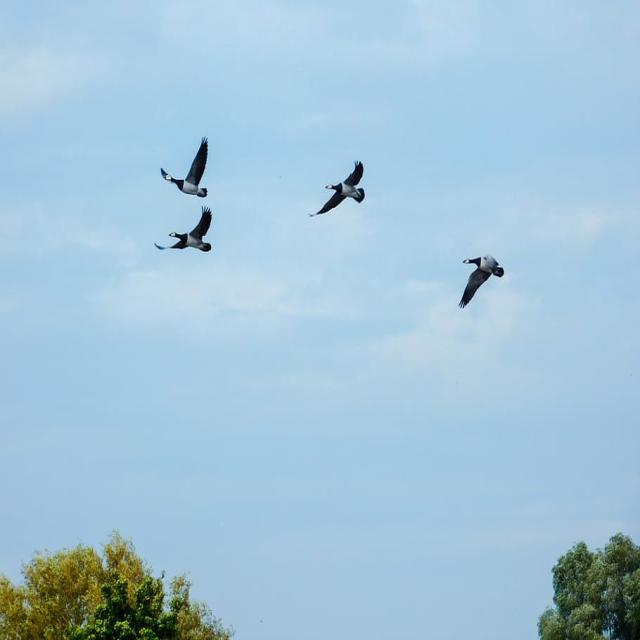bird: (428, 207, 531, 356), (296, 109, 376, 255), (137, 198, 236, 258), (152, 128, 218, 214)
